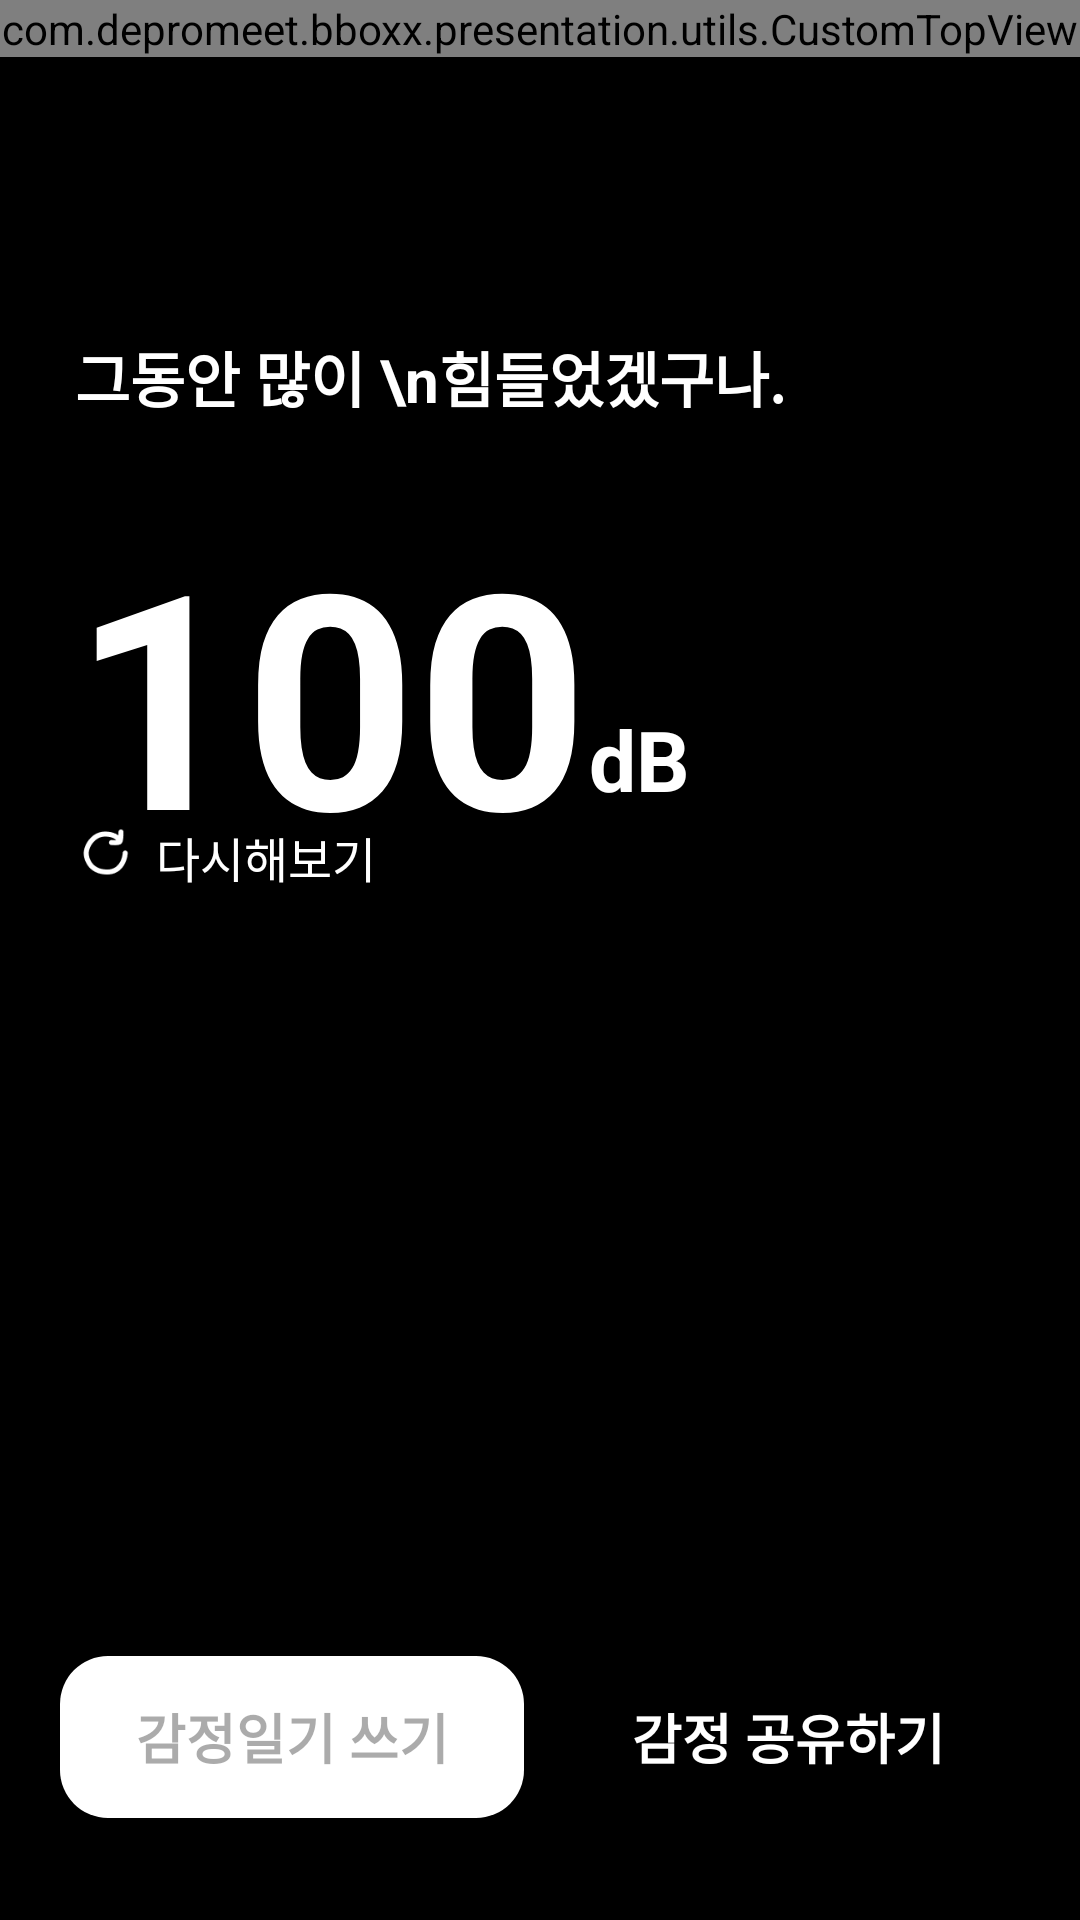

Named icons in this screenshot (1080 × 1920) and their centers, (x,y):
redoreturn: (105,852)
